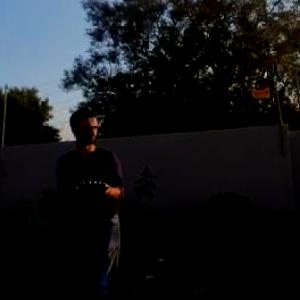follow: (51, 102, 129, 299)
